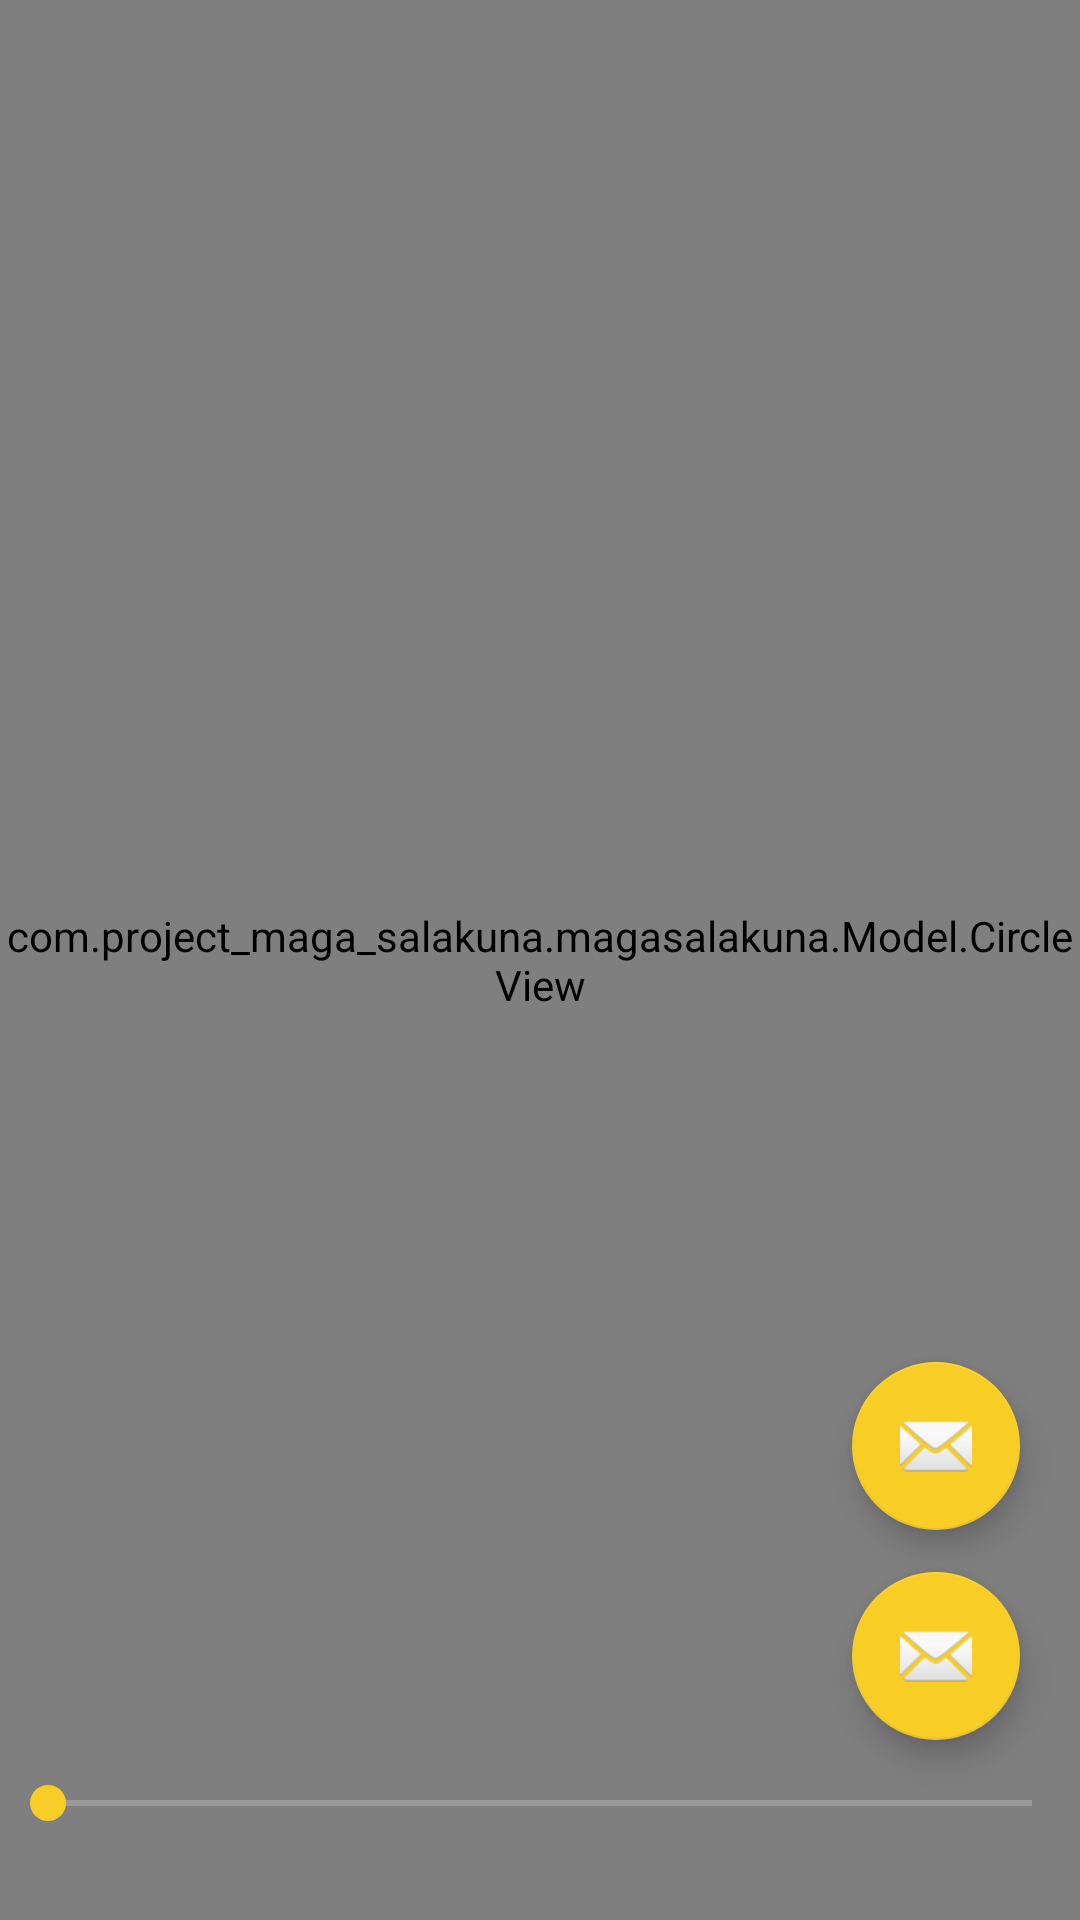

Screen size 1080px×1920px. Icon name, then its box in pixels as (x1, y1, x2, y2):
email: (852, 1362, 1020, 1530), (852, 1572, 1020, 1740)
